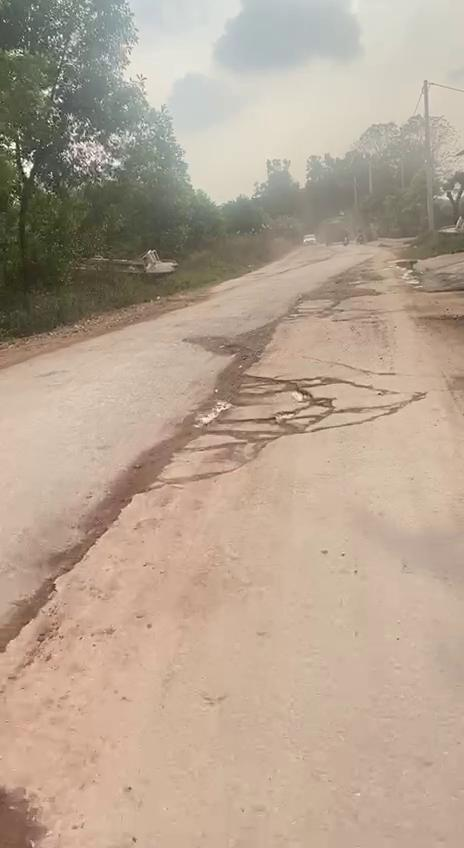pothole: (198, 365, 332, 446)
